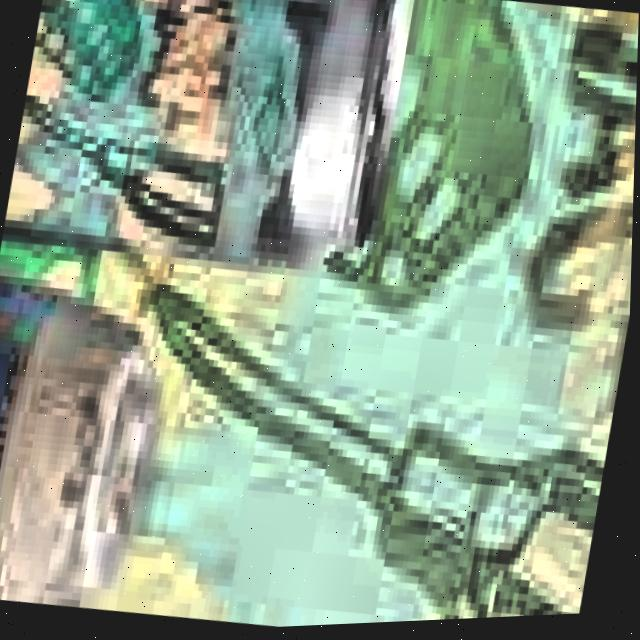metal: (0, 0, 429, 308)
